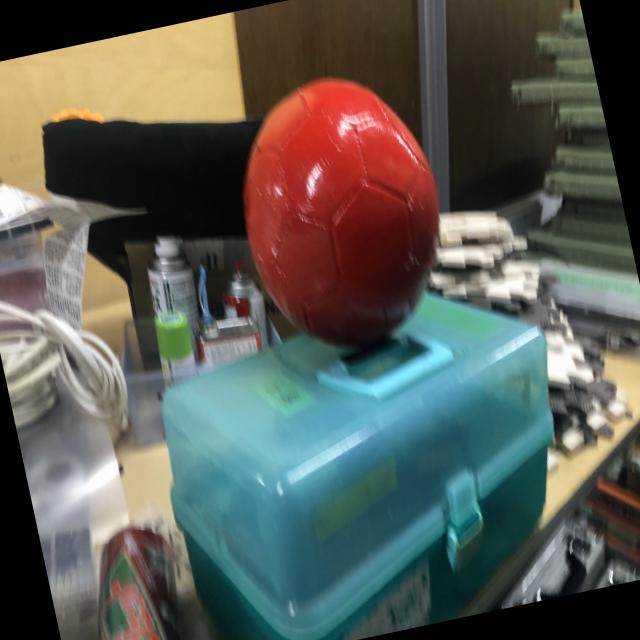red_ball: (217, 62, 467, 366)
